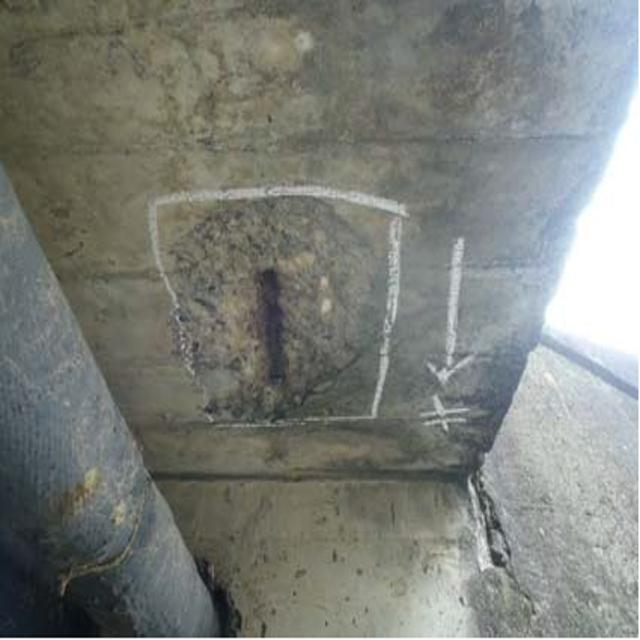spalling: (148, 200, 393, 430)
